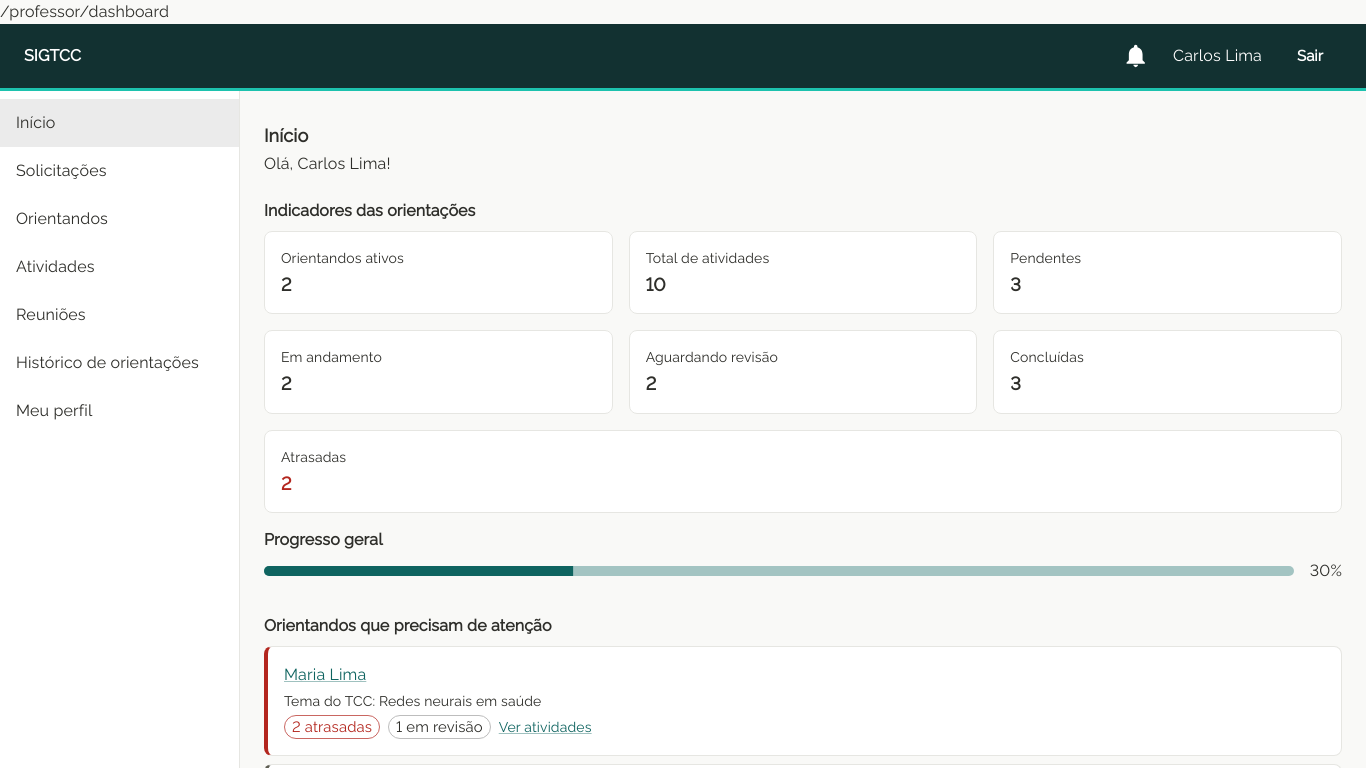
Test case: Dashboard do professor: com orientações ativas › o nome do orientando leva ao perfil dele
Click the link "Maria Lima".
click(325, 674)  # box [284,665,366,684]
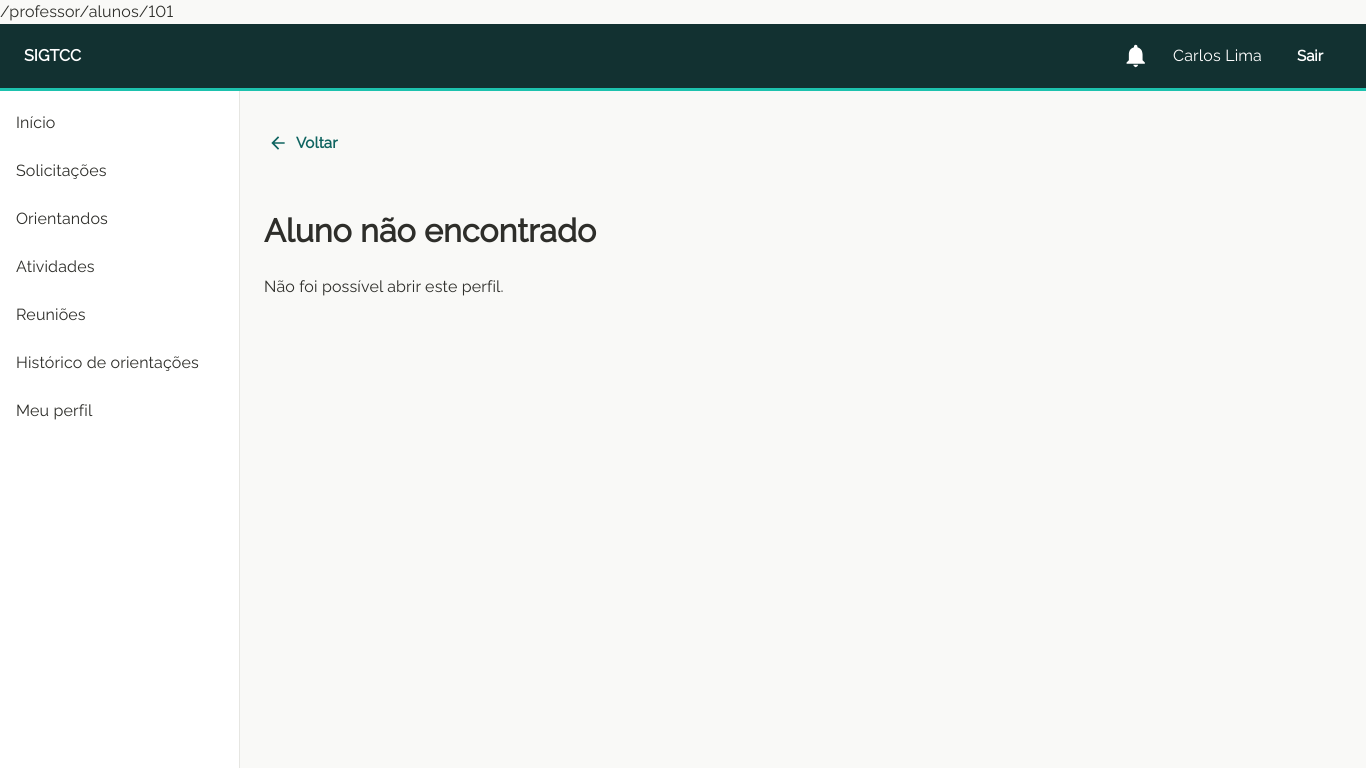
Expected: the text with test id "location" reads "/professor/alunos/101", [0,2,173,21]
